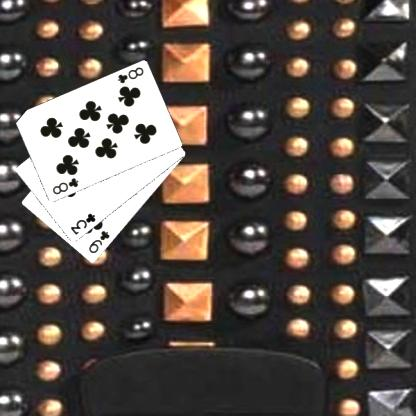3C: (67, 211, 97, 236)
8C: (114, 64, 145, 86), (50, 175, 80, 196)
9C: (86, 228, 111, 255)
